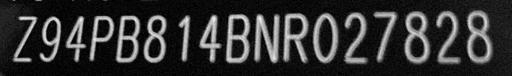letter: (463, 8, 497, 64), (402, 9, 432, 65), (310, 12, 340, 66), (370, 11, 400, 63), (434, 10, 462, 64), (342, 11, 370, 65), (252, 12, 282, 62), (222, 13, 252, 63), (142, 13, 172, 63), (282, 12, 310, 62), (171, 12, 197, 62), (88, 13, 114, 61), (115, 13, 141, 61), (198, 12, 222, 62), (12, 15, 38, 61), (38, 15, 62, 61), (64, 15, 86, 61)
